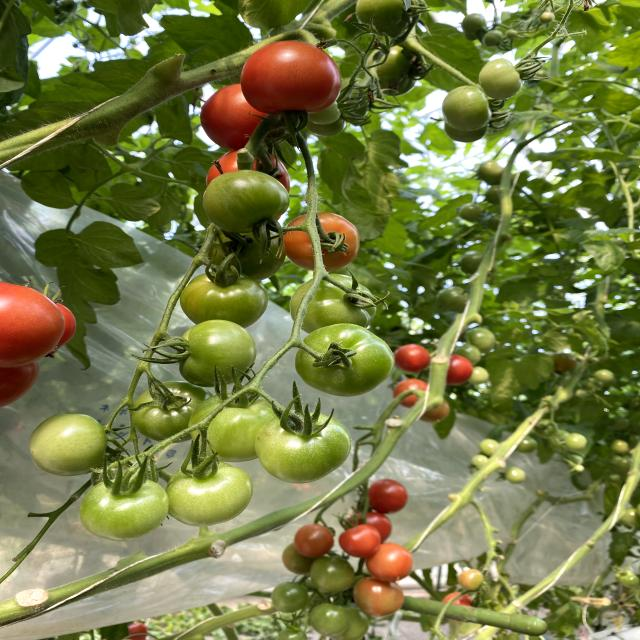ripe0: (296, 323, 396, 398), (255, 413, 352, 483), (204, 169, 290, 233), (181, 319, 255, 386), (28, 413, 106, 476)
ripe2: (241, 40, 342, 115), (0, 282, 64, 367), (201, 83, 262, 150)
